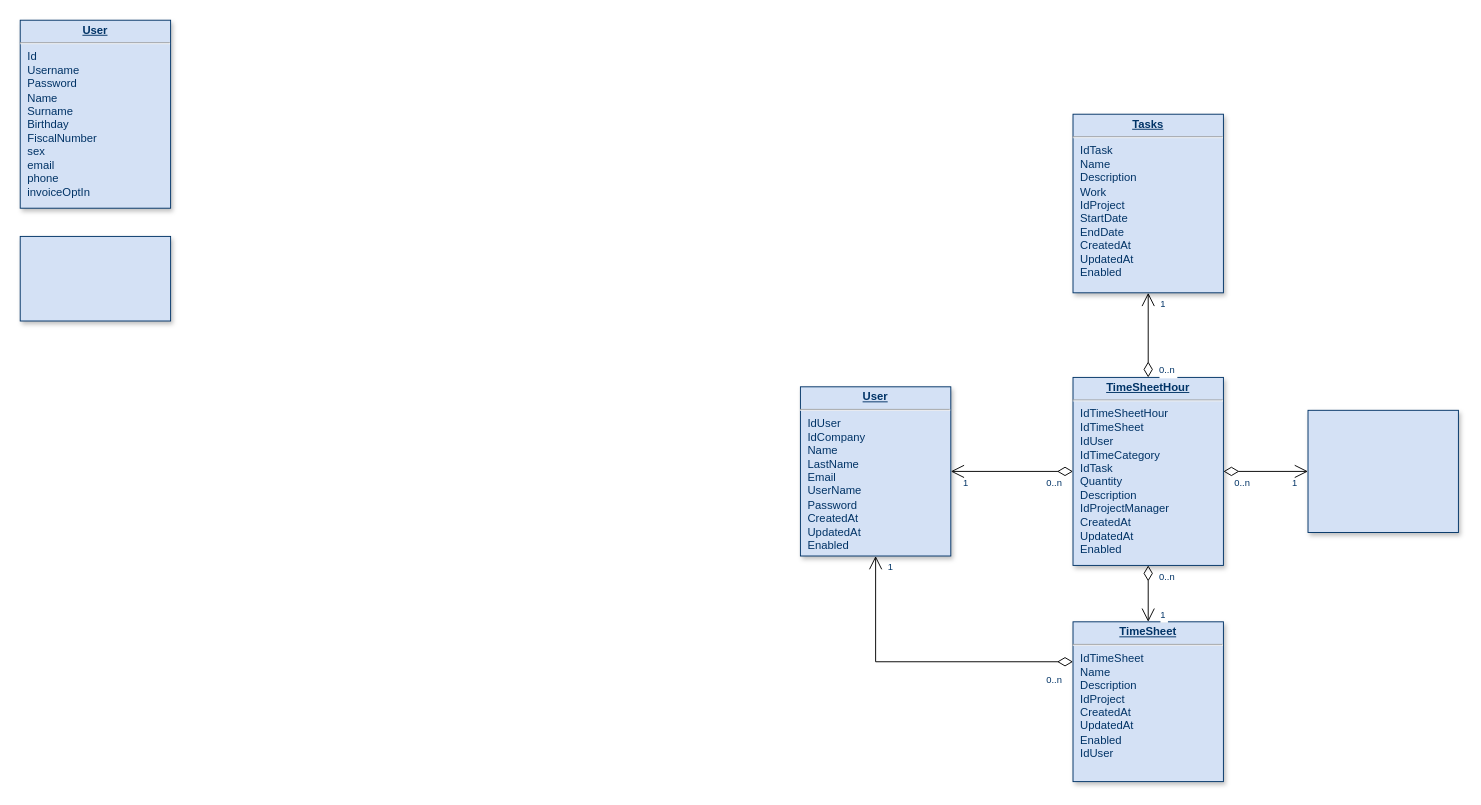
This 1481x805 diagram has some shape labels left out. The centre of each missing label's shape, as x and y in pixels:
dblog Id useraction description: point 96,280
TimeCategory IdTimeCategory Name Description CreatedAt UpdatedAt Enabled: point 1383,472
